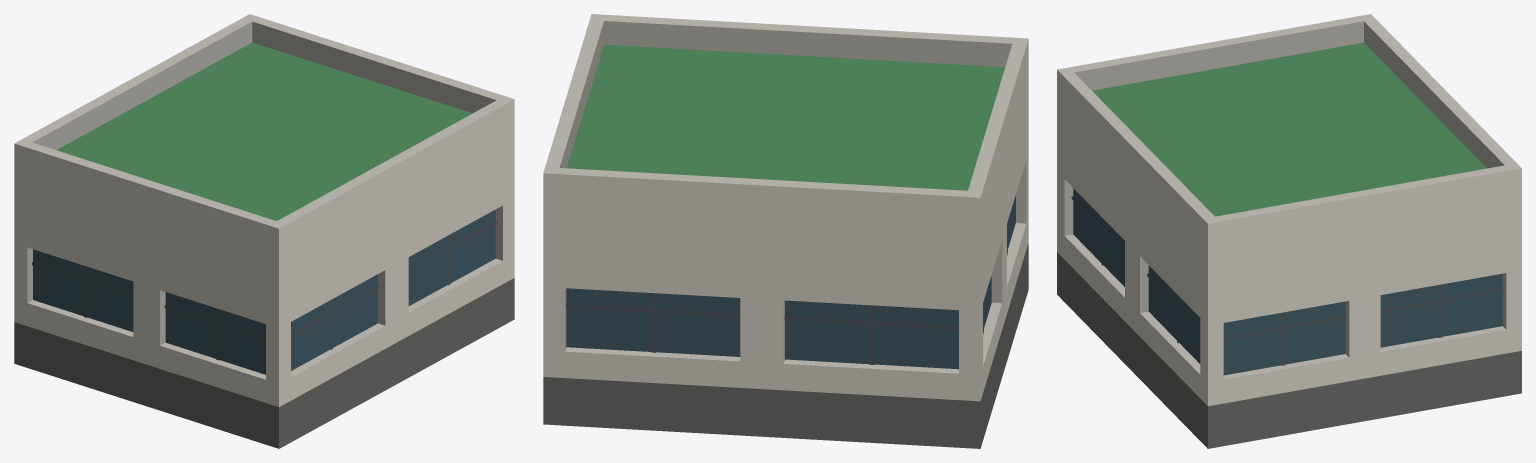
3 renders of one model, left to right at view 1: azimuth 30°, elevation 25°; view 2: azimuth 150°, elevation 25°; view 3: azimuth 270°, elevation 25°, orthographic. The views are drawn at different scales.
Visible parts, largest first — view 1: shed5__wall-plaster, shed5__roof, shed5__base-stone, shed5__trim-concrete, shed5__glass, shed5__frame; view 2: shed5__wall-plaster, shed5__roof, shed5__trim-concrete, shed5__base-stone, shed5__glass, shed5__frame; view 3: shed5__wall-plaster, shed5__roof, shed5__trim-concrete, shed5__base-stone, shed5__glass, shed5__frame.
Boxes of the visible parts, left/top/right/bottom form: shed5__wall-plaster: left=14, top=99, right=514, bottom=406; shed5__roof: left=56, top=42, right=472, bottom=220; shed5__base-stone: left=14, top=278, right=514, bottom=448; shed5__trim-concrete: left=14, top=14, right=514, bottom=379; shed5__glass: left=33, top=209, right=495, bottom=374; shed5__frame: left=32, top=221, right=496, bottom=360; shed5__wall-plaster: left=543, top=39, right=1028, bottom=401; shed5__roof: left=567, top=44, right=1004, bottom=190; shed5__trim-concrete: left=543, top=14, right=1028, bottom=373; shed5__base-stone: left=543, top=243, right=1028, bottom=448; shed5__glass: left=566, top=195, right=1015, bottom=369; shed5__frame: left=566, top=221, right=1007, bottom=364; shed5__wall-plaster: left=1057, top=70, right=1521, bottom=406; shed5__roof: left=1092, top=42, right=1486, bottom=216; shed5__trim-concrete: left=1057, top=14, right=1521, bottom=379; shed5__base-stone: left=1057, top=252, right=1521, bottom=448; shed5__glass: left=1073, top=188, right=1502, bottom=375; shed5__frame: left=1071, top=196, right=1503, bottom=365.
Bounding box in the file's own units: 9.5 × 4.75 × 8.89.
